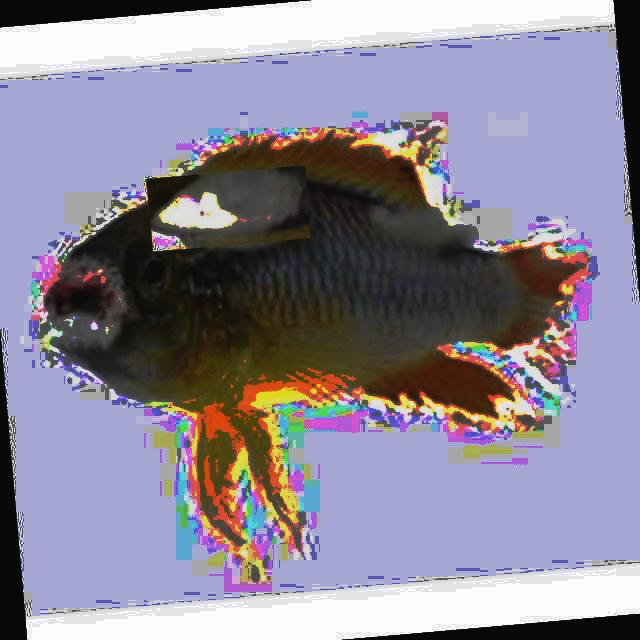Fungal Disease -Saprolegniasis-: (45, 134, 581, 544), (44, 130, 535, 546)
